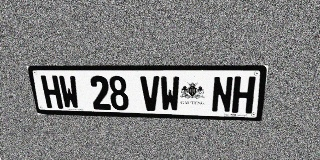2: (89, 76, 111, 110)
8: (108, 76, 129, 110)
H: (231, 76, 256, 113), (40, 75, 63, 109)
N: (211, 76, 234, 113)
V: (140, 76, 160, 111)
W: (58, 75, 80, 109), (160, 76, 179, 112)
